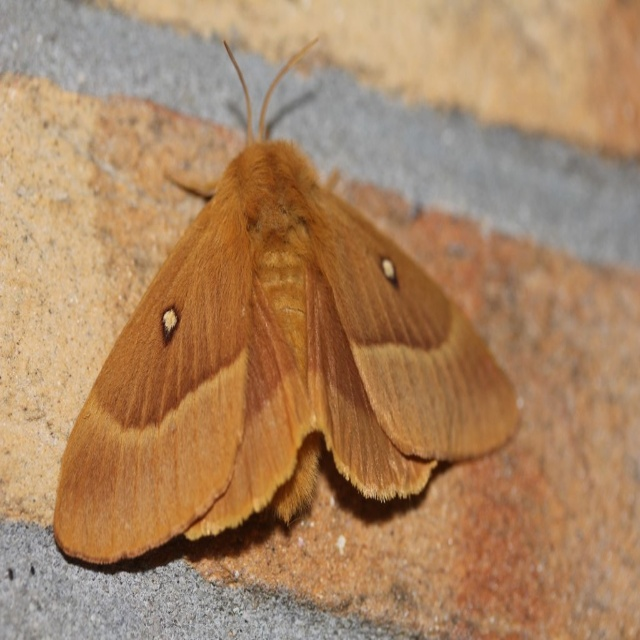Butterfly: (92, 113, 481, 553)
